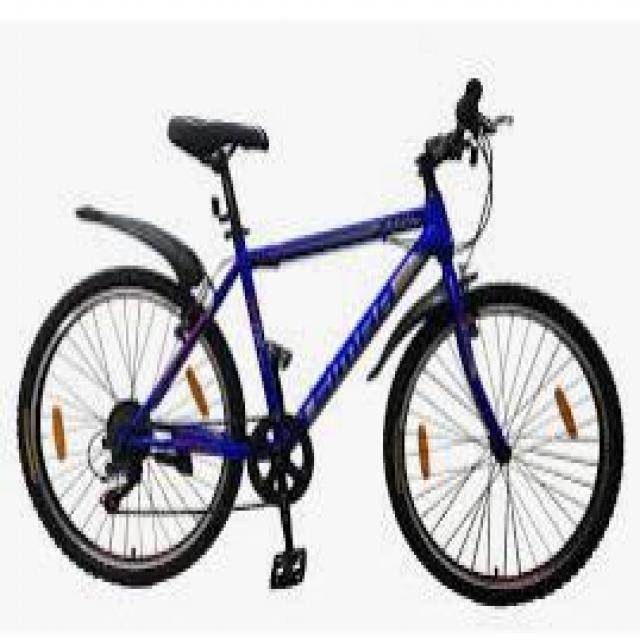bicycle: (34, 93, 622, 600)
